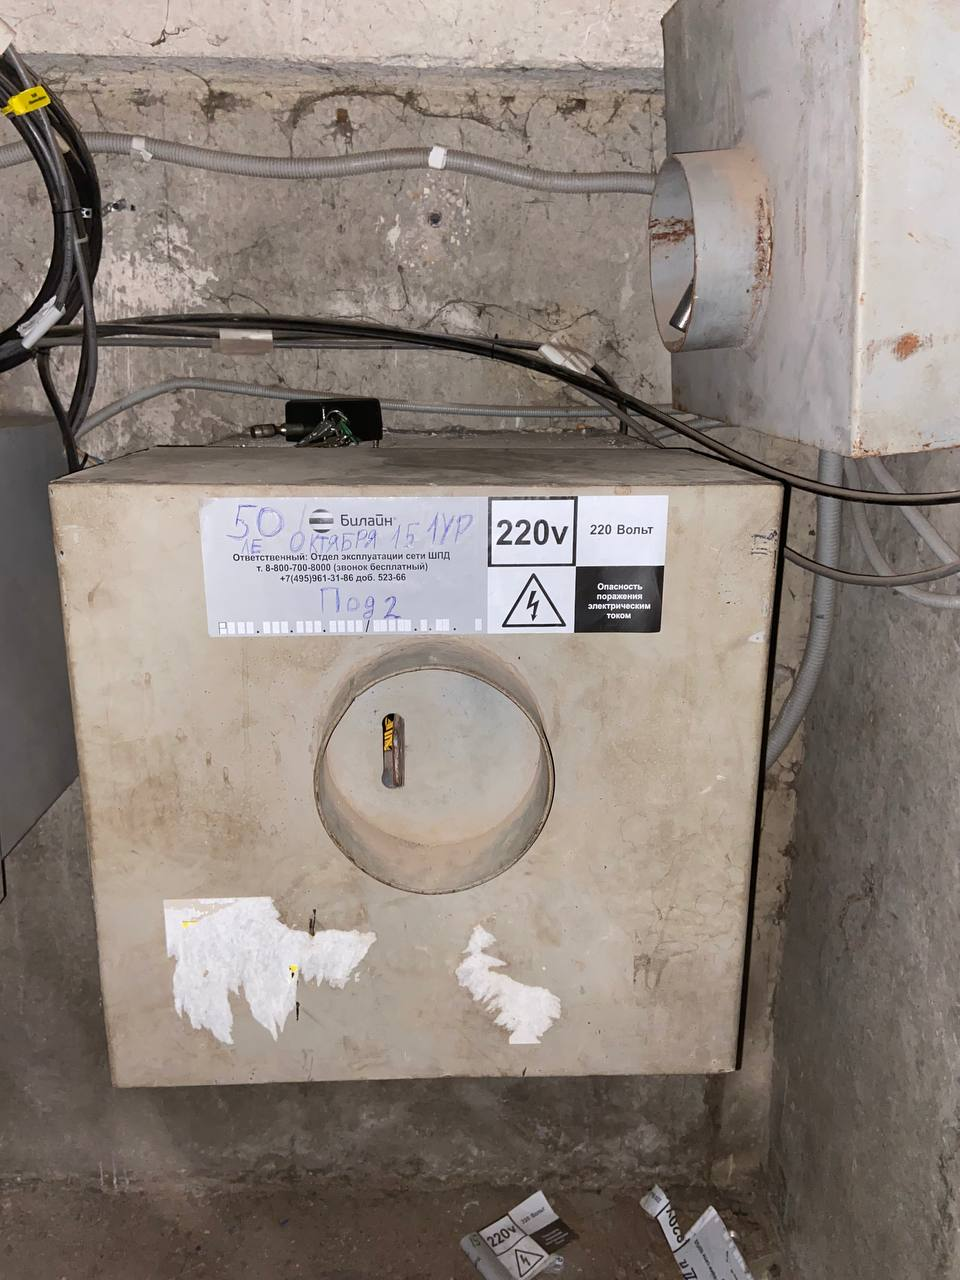shta-9: (36, 425, 806, 1099)
